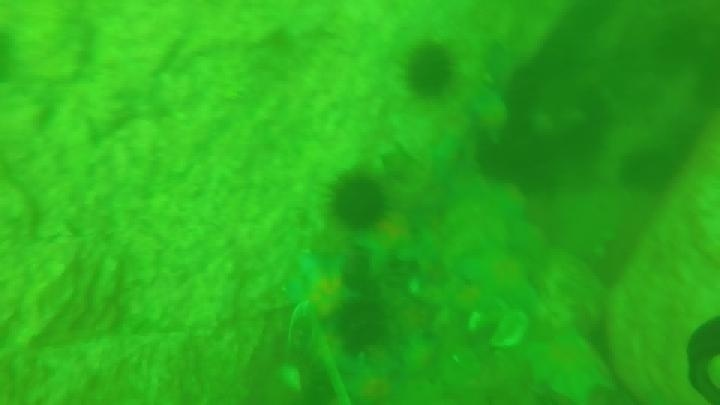echinus: (474, 123, 557, 192), (326, 171, 391, 232), (332, 297, 391, 357), (401, 41, 458, 101), (618, 145, 680, 196)
starfish: (522, 328, 612, 405), (459, 245, 543, 310), (288, 251, 359, 322), (353, 210, 424, 277)
